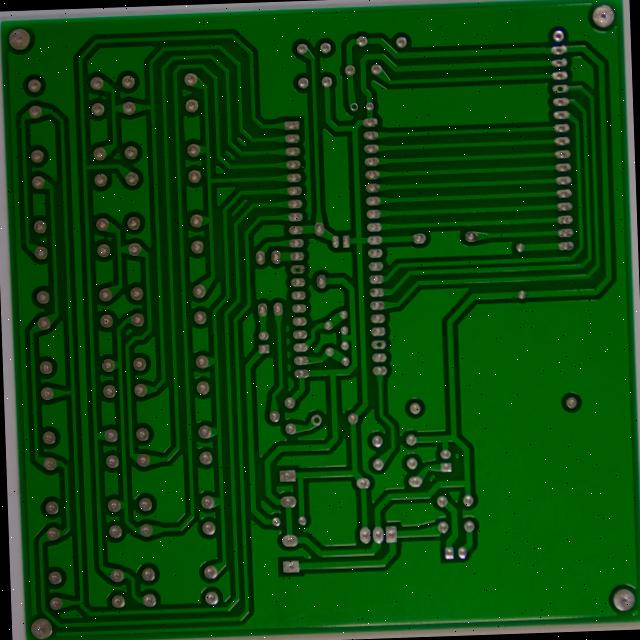missing_hole: (543, 43, 562, 61), (263, 237, 282, 255), (283, 398, 301, 415), (351, 318, 369, 332), (326, 64, 339, 79)
